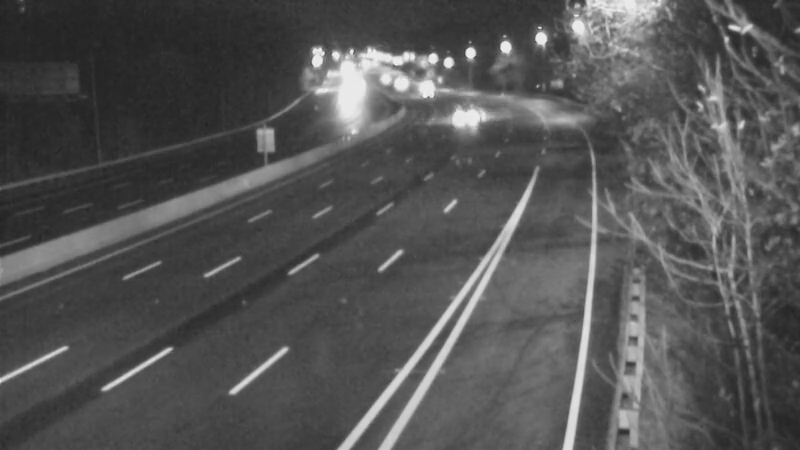vehicle: (357, 56, 407, 106), (374, 59, 424, 109), (394, 61, 444, 111), (403, 71, 453, 121), (435, 89, 485, 139), (317, 73, 367, 123)
